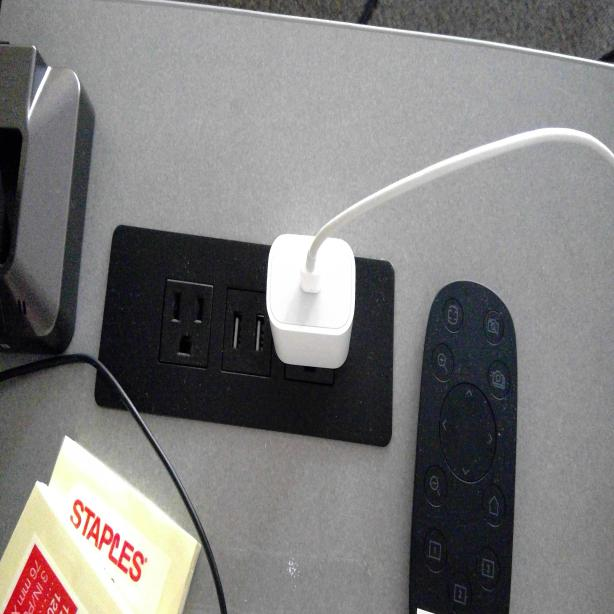typeb: (163, 282, 206, 362)
